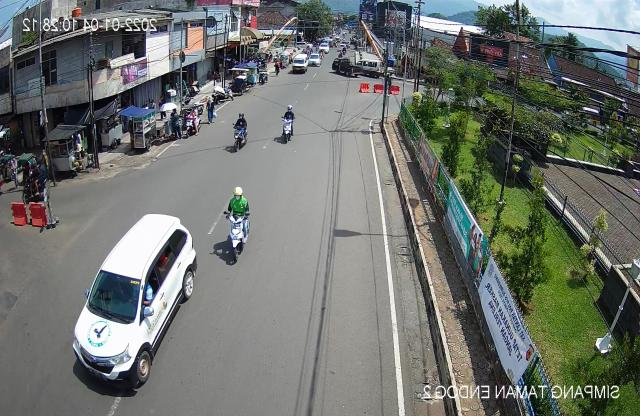Mobil: (68, 212, 199, 400)
Motor: (220, 181, 254, 264), (17, 157, 51, 208), (226, 109, 252, 154), (276, 103, 298, 145)
